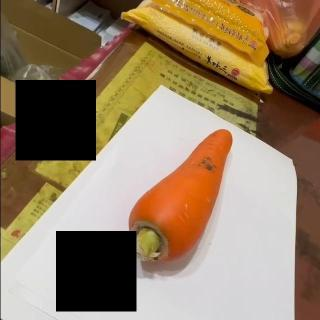carrot: (126, 129, 232, 266)
